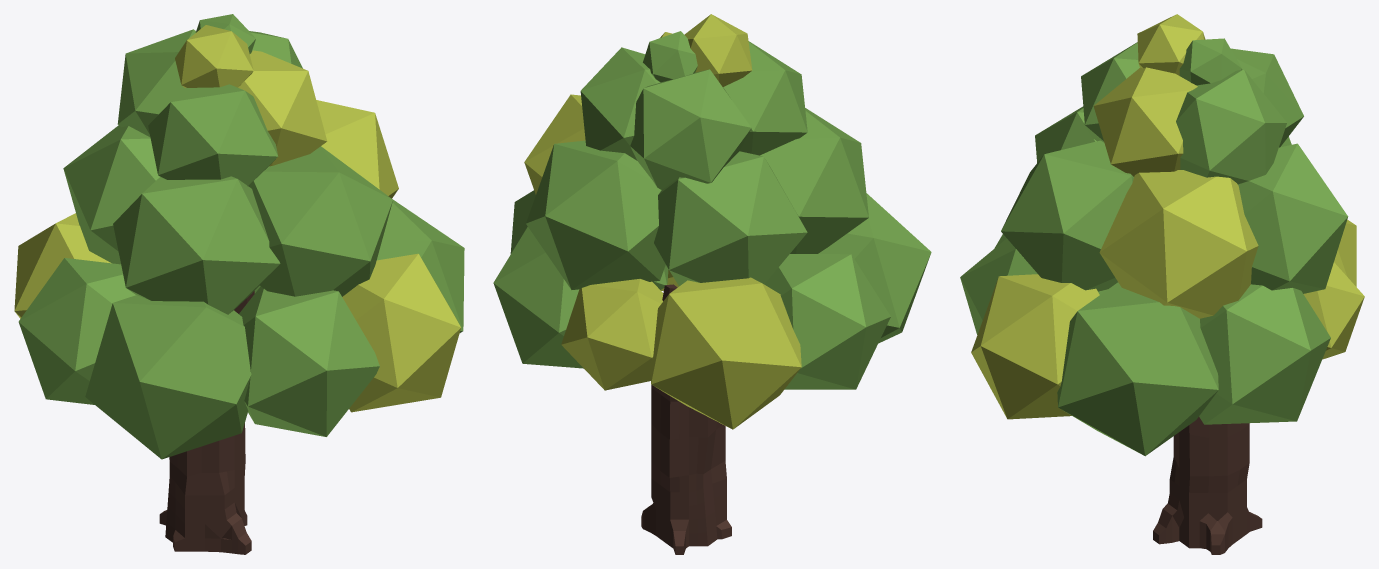
Rendered from New_Tree_5.fbx.
3 views of the same model, side by side, from view 1: azimuth 30°, elevation 25°; view 2: azimuth 150°, elevation 25°; view 3: azimuth 270°, elevation 25° (orthographic). The views are drawn at different scales.
Parts seen in each view (by area): view 1: Icosphere.046, Icosphere.053, Icosphere.047, Icosphere.054, Icosphere.048, Icosphere.045, Icosphere.055, Cylinder.008, Icosphere.052, Icosphere.060, Icosphere.049, Icosphere.056 (+5 smaller); view 2: Icosphere.044, Icosphere.058, Icosphere.052, Icosphere.045, Cylinder.008, Icosphere.056, Icosphere.053, Icosphere.051, Icosphere.050, Icosphere.046, Icosphere.055, Icosphere.059 (+4 smaller); view 3: Icosphere.049, Icosphere.057, Icosphere.050, Icosphere.054, Icosphere.048, Icosphere.058, Cylinder.008, Icosphere.059, Icosphere.060, Icosphere.051, Icosphere.047, Icosphere.061 (+5 smaller).
Boxes of the visible parts, bbox=[...] form: Icosphere.046: bbox=[85, 295, 251, 459]; Icosphere.053: bbox=[113, 176, 280, 314]; Icosphere.047: bbox=[239, 286, 379, 436]; Icosphere.054: bbox=[248, 146, 392, 296]; Icosphere.048: bbox=[342, 253, 461, 412]; Icosphere.045: bbox=[18, 258, 135, 404]; Icosphere.055: bbox=[148, 84, 278, 186]; Cylinder.008: bbox=[159, 291, 254, 554]; Icosphere.052: bbox=[63, 125, 159, 264]; Icosphere.060: bbox=[238, 50, 327, 166]; Icosphere.049: bbox=[377, 200, 464, 332]; Icosphere.056: bbox=[117, 29, 195, 136]; Icosphere.044: bbox=[650, 277, 801, 429]; Icosphere.058: bbox=[526, 140, 665, 289]; Icosphere.052: bbox=[654, 151, 807, 286]; Icosphere.045: bbox=[764, 254, 890, 389]; Cylinder.008: bbox=[641, 284, 731, 554]; Icosphere.056: bbox=[630, 69, 751, 189]; Icosphere.053: bbox=[760, 108, 868, 253]; Icosphere.051: bbox=[561, 279, 663, 390]; Icosphere.050: bbox=[493, 227, 583, 368]; Icosphere.046: bbox=[818, 193, 931, 343]; Icosphere.055: bbox=[723, 41, 807, 155]; Icosphere.059: bbox=[580, 47, 660, 160]; Icosphere.049: bbox=[1057, 282, 1218, 456]; Icosphere.057: bbox=[1099, 170, 1258, 318]; Icosphere.050: bbox=[1199, 284, 1330, 424]; Icosphere.054: bbox=[1001, 140, 1133, 291]; Icosphere.048: bbox=[971, 274, 1099, 419]; Icosphere.058: bbox=[1238, 143, 1348, 293]; Cylinder.008: bbox=[1153, 417, 1262, 554]; Icosphere.059: bbox=[1176, 69, 1286, 184]; Icosphere.060: bbox=[1093, 67, 1197, 176]; Icosphere.051: bbox=[1303, 262, 1364, 359]; Icosphere.047: bbox=[960, 238, 1107, 334]; Icosphere.061: bbox=[1137, 14, 1205, 75].
Bounding box in the file's own units: 503 × 619 × 445.
